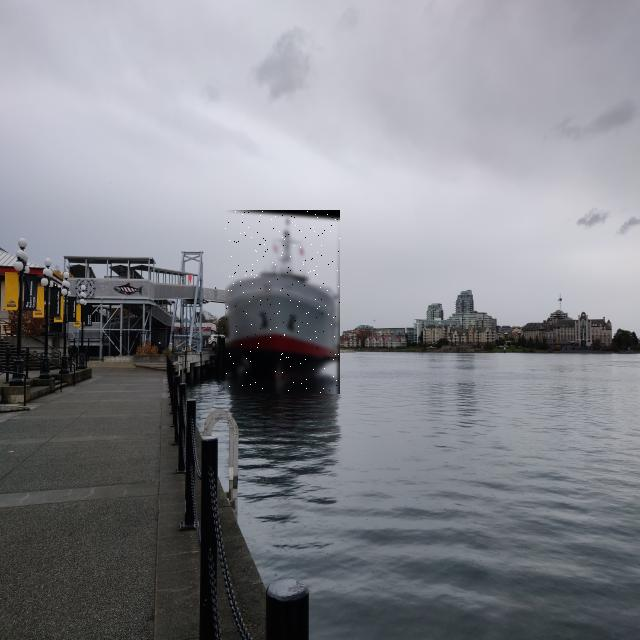boat: (225, 210, 340, 394)
